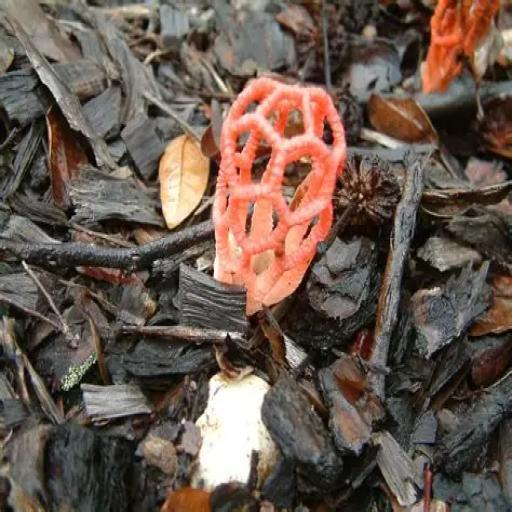mushroom: (200, 77, 356, 327)
